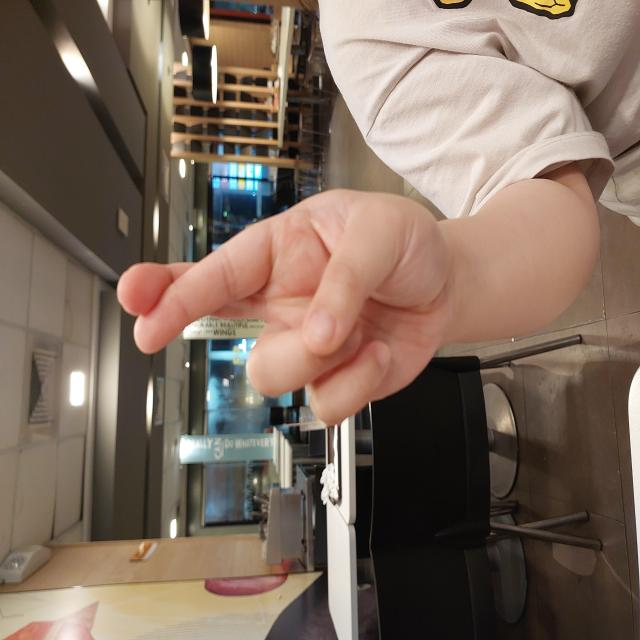R: (212, 115, 453, 452)
